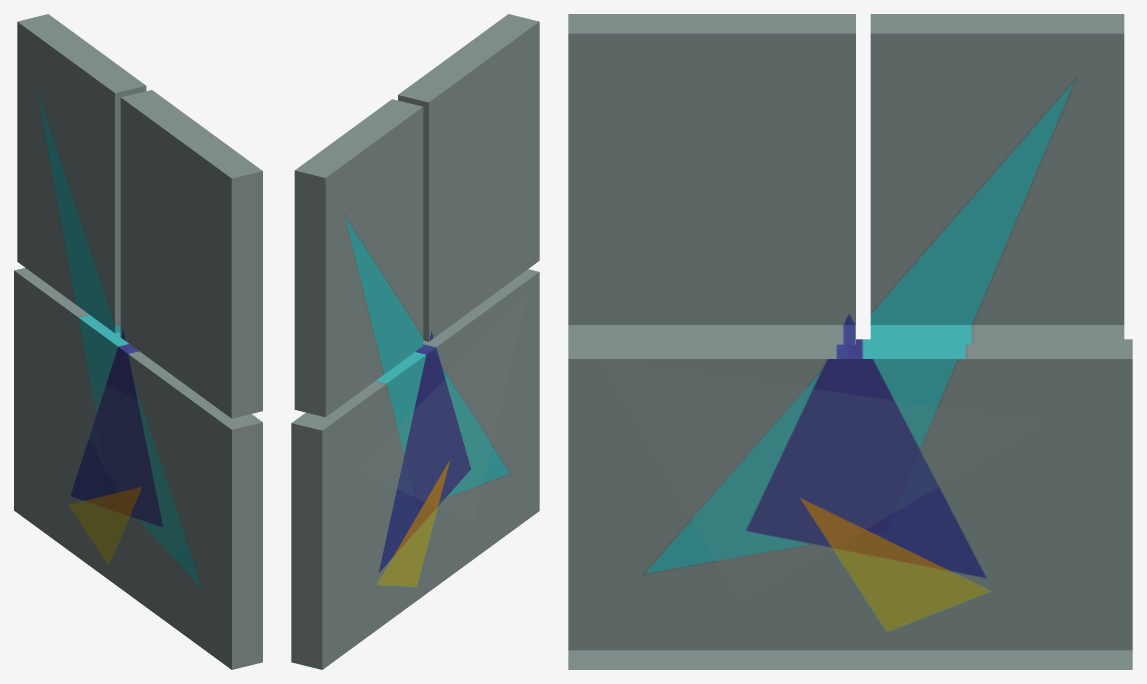
The model's file is SM_Furniture_Gallery_Picture_04.fbx.
3 renders of one model, left to right at view 1: azimuth 30°, elevation 25°; view 2: azimuth 150°, elevation 25°; view 3: azimuth 270°, elevation 25°, orthographic. The views are drawn at different scales.
Visible parts, largest first — view 1: SM_Furniture_Gallery_Picture_04; view 2: SM_Furniture_Gallery_Picture_04; view 3: SM_Furniture_Gallery_Picture_04.
Boxes of the visible parts, x1,y1,x2,y2 form: SM_Furniture_Gallery_Picture_04: [14, 14, 262, 669]; SM_Furniture_Gallery_Picture_04: [291, 14, 539, 669]; SM_Furniture_Gallery_Picture_04: [568, 14, 1132, 669].
Size of the model in its own units: 6.75 by 81.81 by 102.
